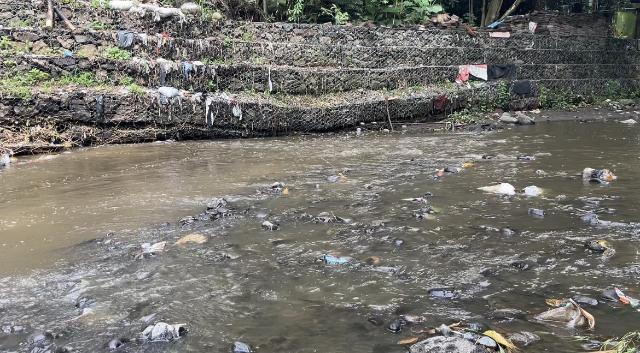Sampah Anorganik: (540, 299, 598, 330), (582, 161, 618, 184), (317, 247, 352, 269), (610, 286, 640, 308), (470, 184, 515, 198), (137, 241, 163, 254), (521, 185, 543, 196), (399, 197, 429, 204), (594, 240, 612, 249), (461, 162, 475, 169)
Sampah Organik: (386, 313, 513, 353), (175, 234, 208, 244), (363, 257, 380, 272), (423, 206, 439, 219), (174, 215, 198, 223), (428, 168, 445, 179), (281, 188, 291, 196), (339, 173, 347, 181)
